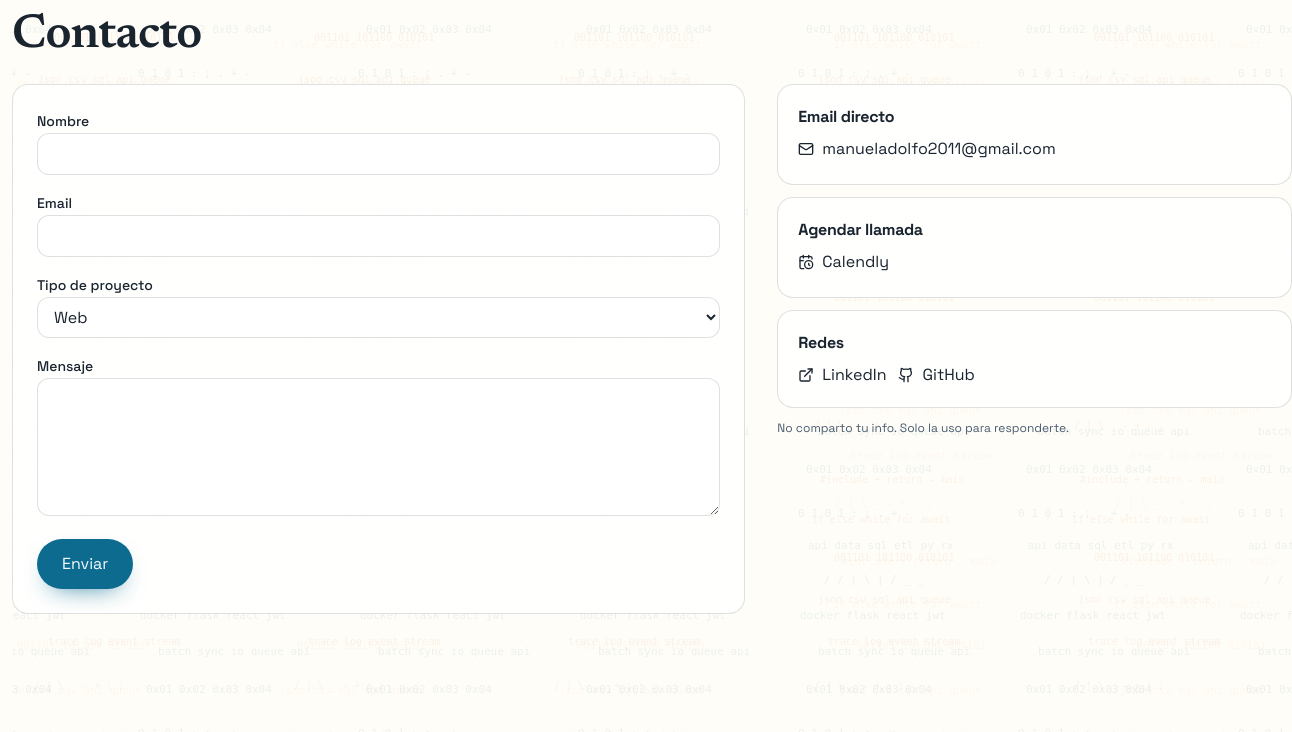
Test: ContactSection › muestra error cuando el endpoint responde con fallo
This screenshot has width=1292, height=732.
Type "Manuel" into the field labelled "Nombre" at [379, 154], box x1=37 y1=133 x2=720 y2=175
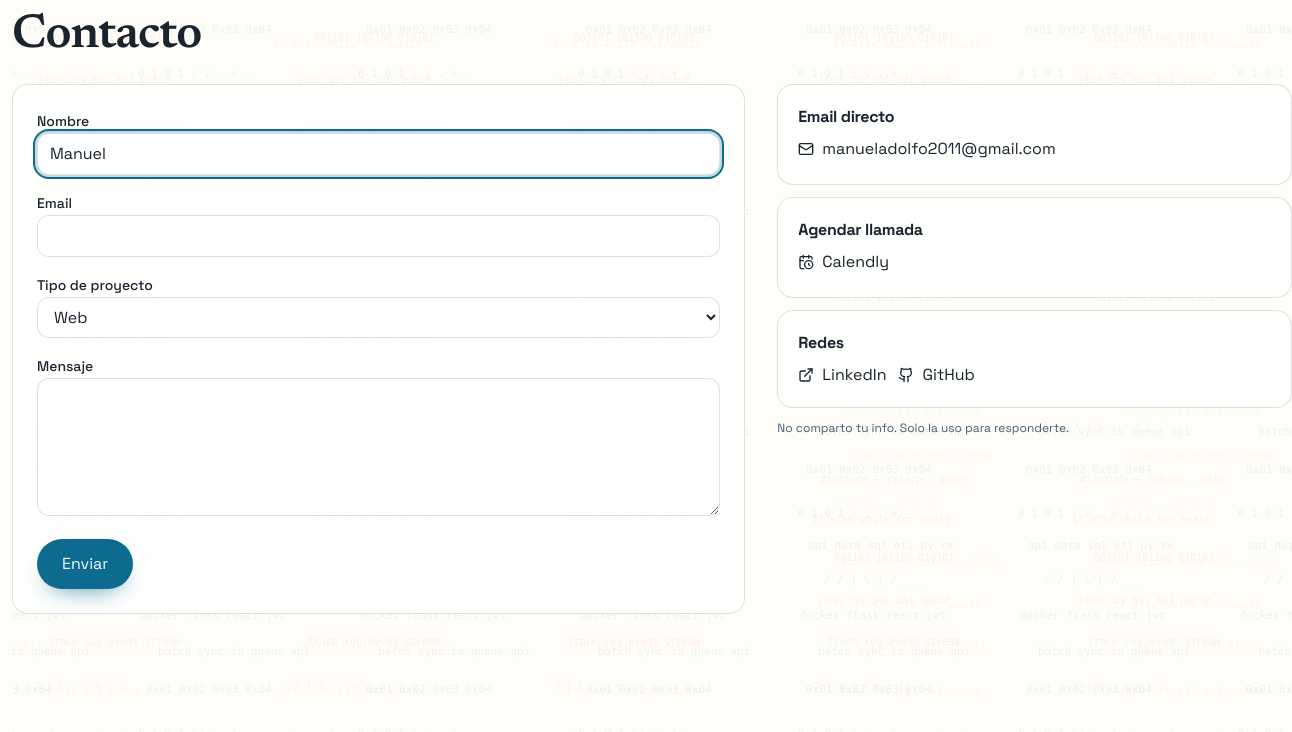
Type "manuel@email.com" into the field labelled "Email" at [379, 236], box x1=37 y1=215 x2=720 y2=257
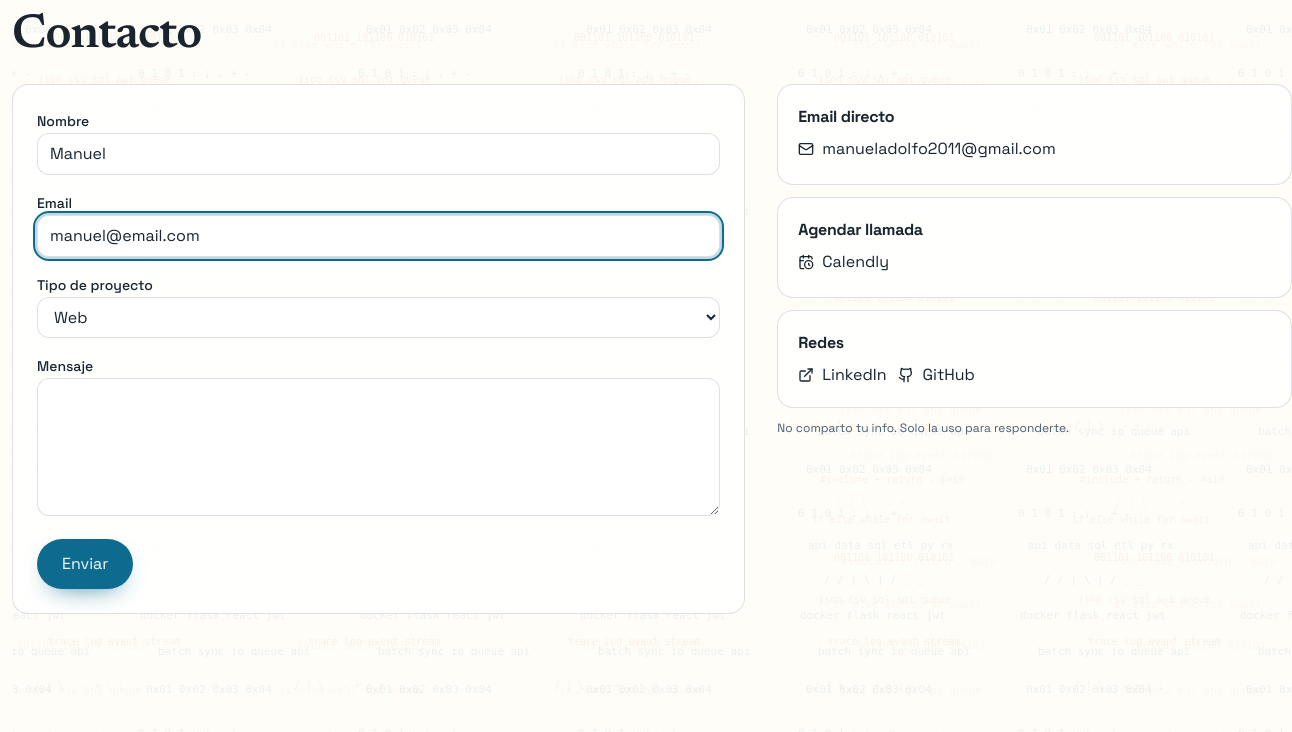
Type "Test error." into the text box labelled "Mensaje" at [379, 447], box x1=37 y1=378 x2=720 y2=516
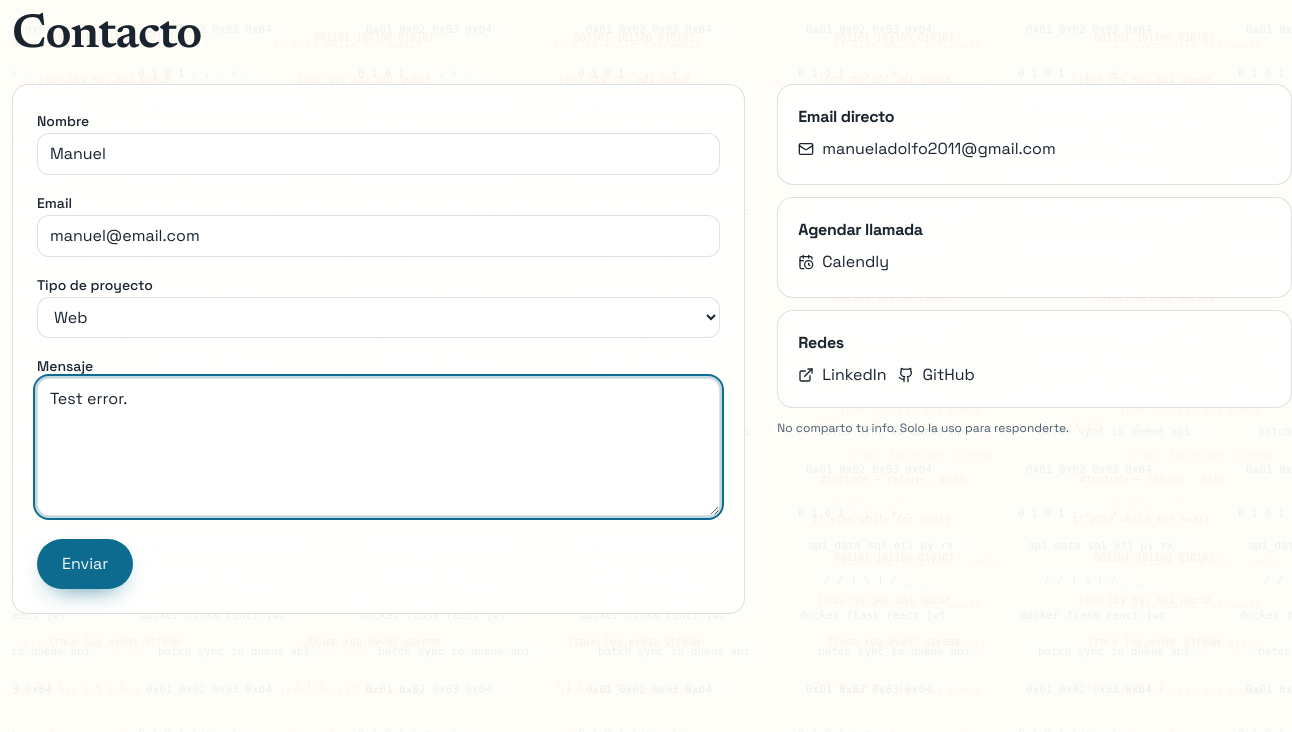
Click the button "Enviar" at [85, 564], box x1=37 y1=539 x2=133 y2=589
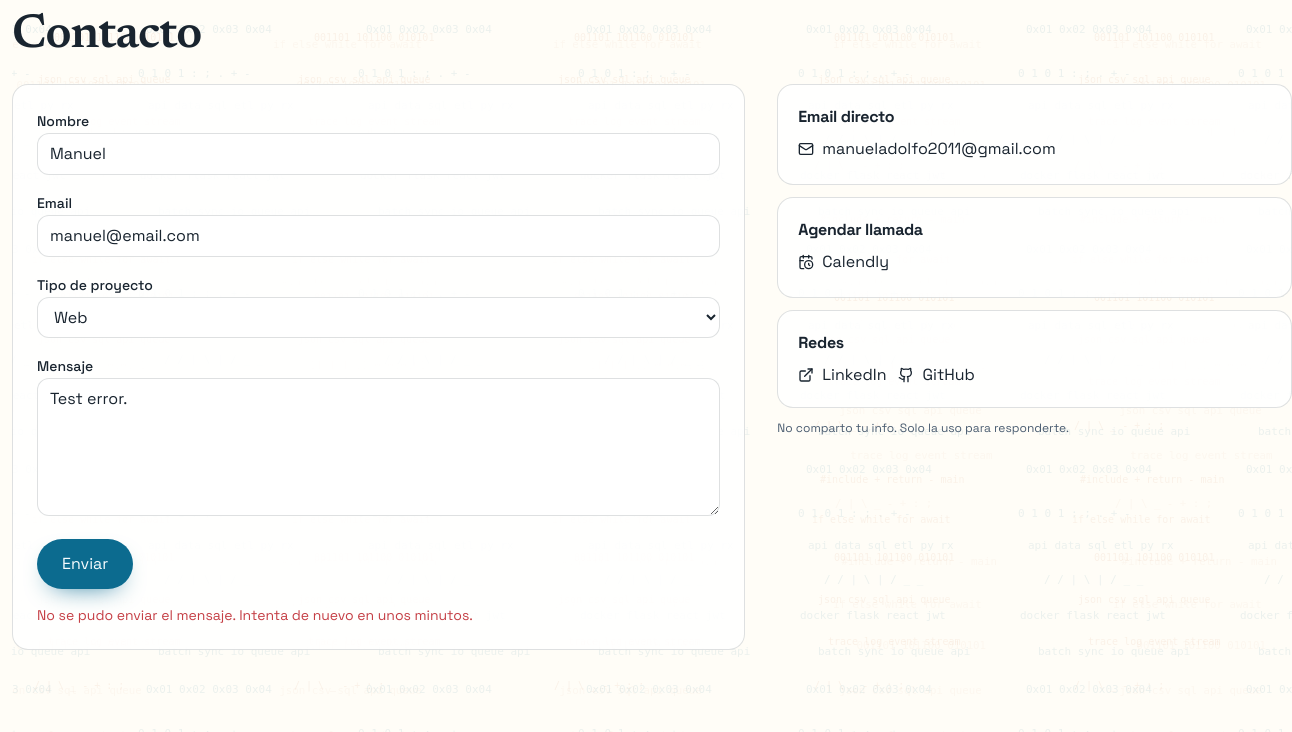
Expected: the text "No se pudo enviar el mensaje. Intenta de nuevo en unos minutos." is shown, x1=37 y1=606 x2=473 y2=624
